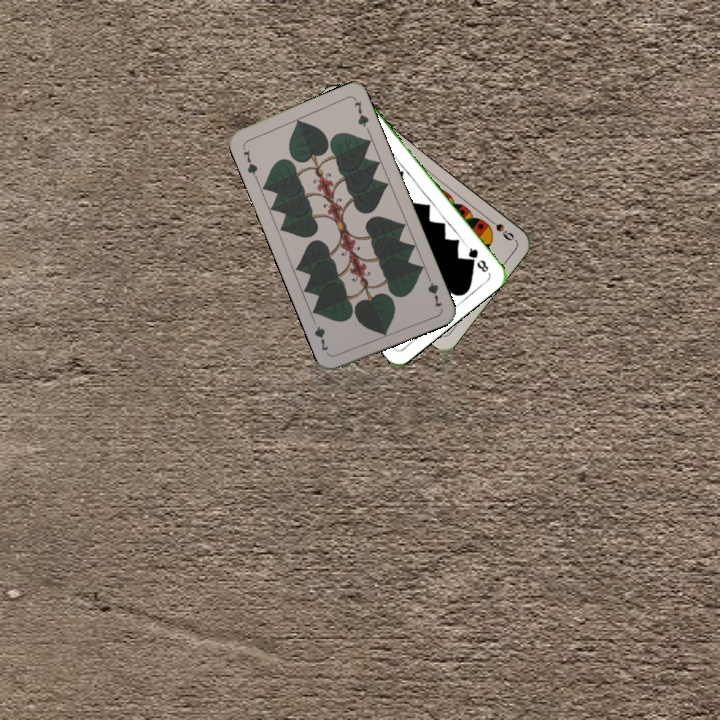G7: (423, 271, 445, 310), (238, 142, 260, 181)
G8: (462, 241, 491, 275)
S9: (483, 213, 517, 243)
